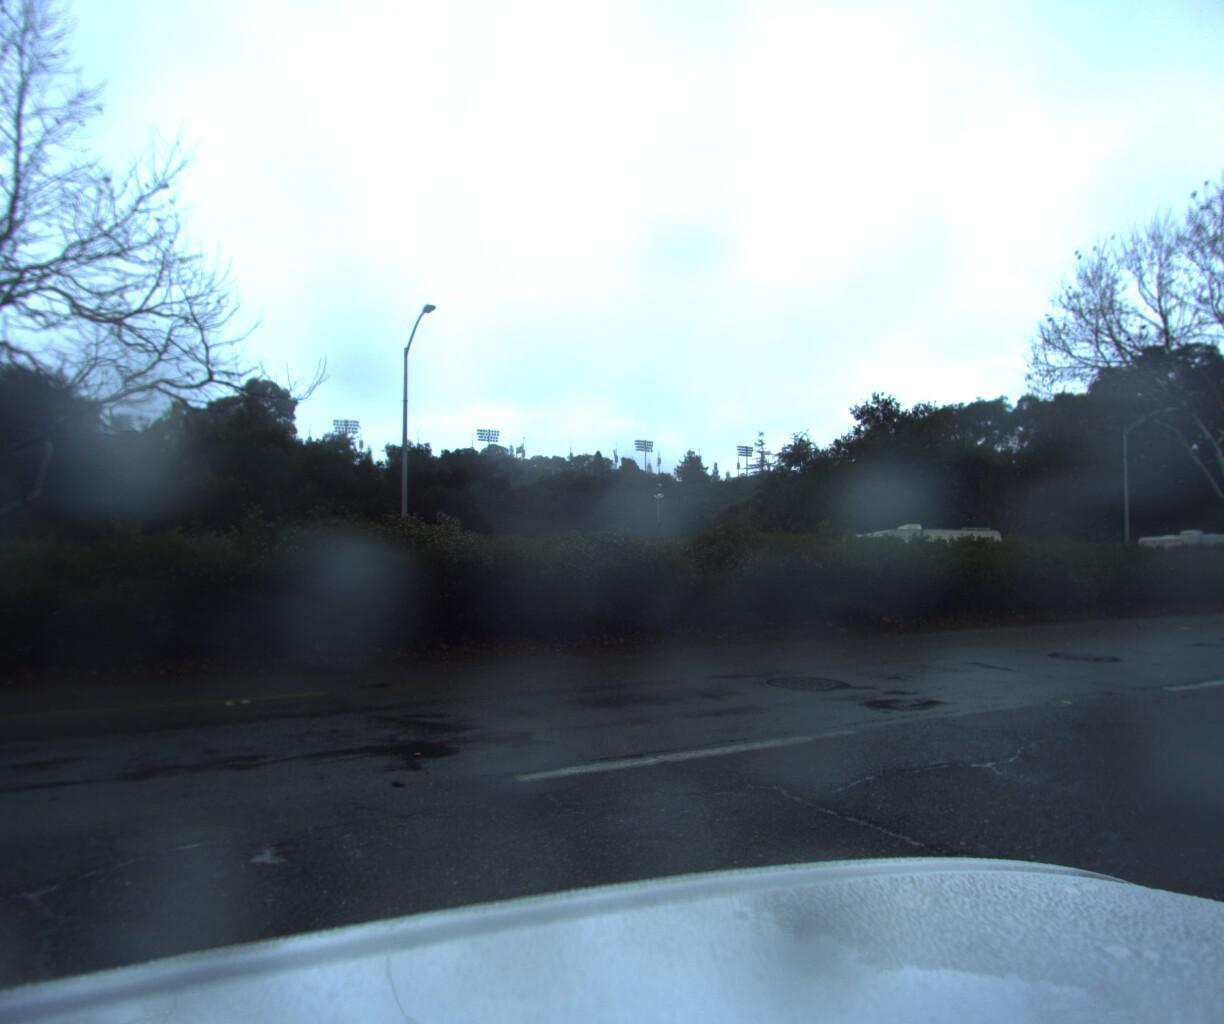other_vehicle: (820, 518, 1007, 602), (1120, 525, 1224, 589)
